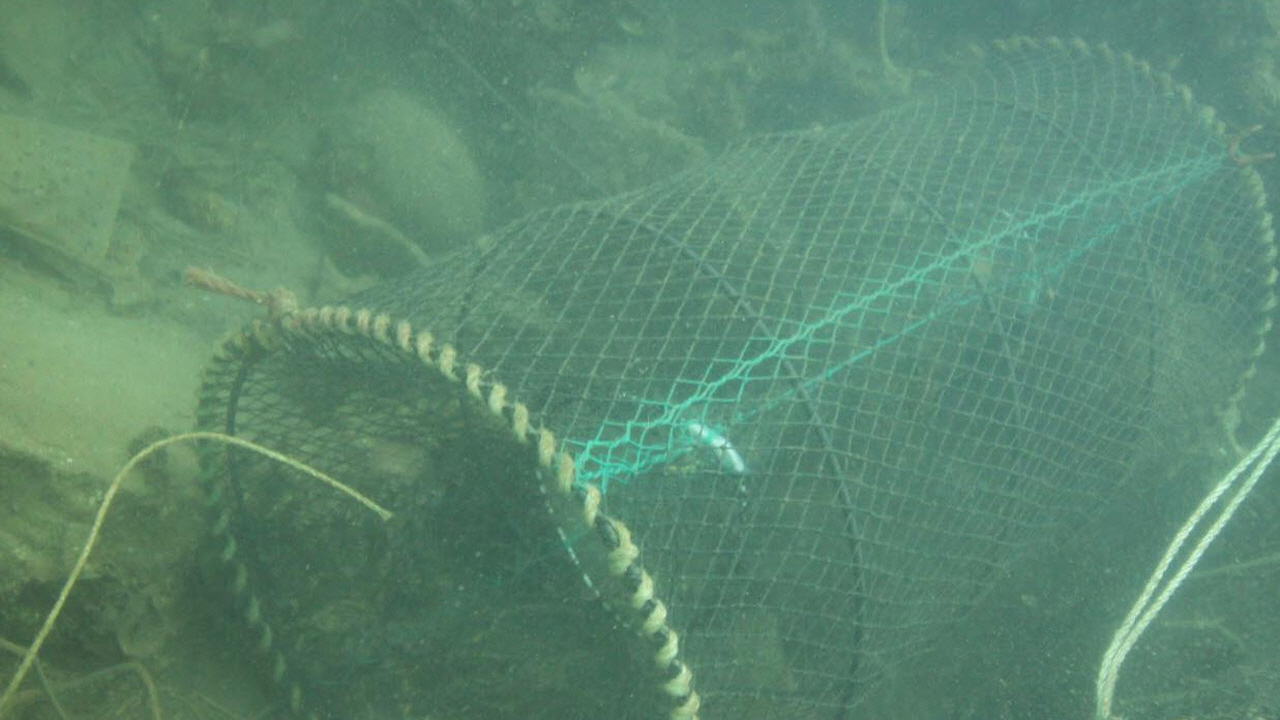bundle of ropes: (1090, 418, 1280, 720)
rope: (0, 430, 391, 716), (186, 264, 298, 315)
spring fish trap: (189, 35, 1280, 720)
